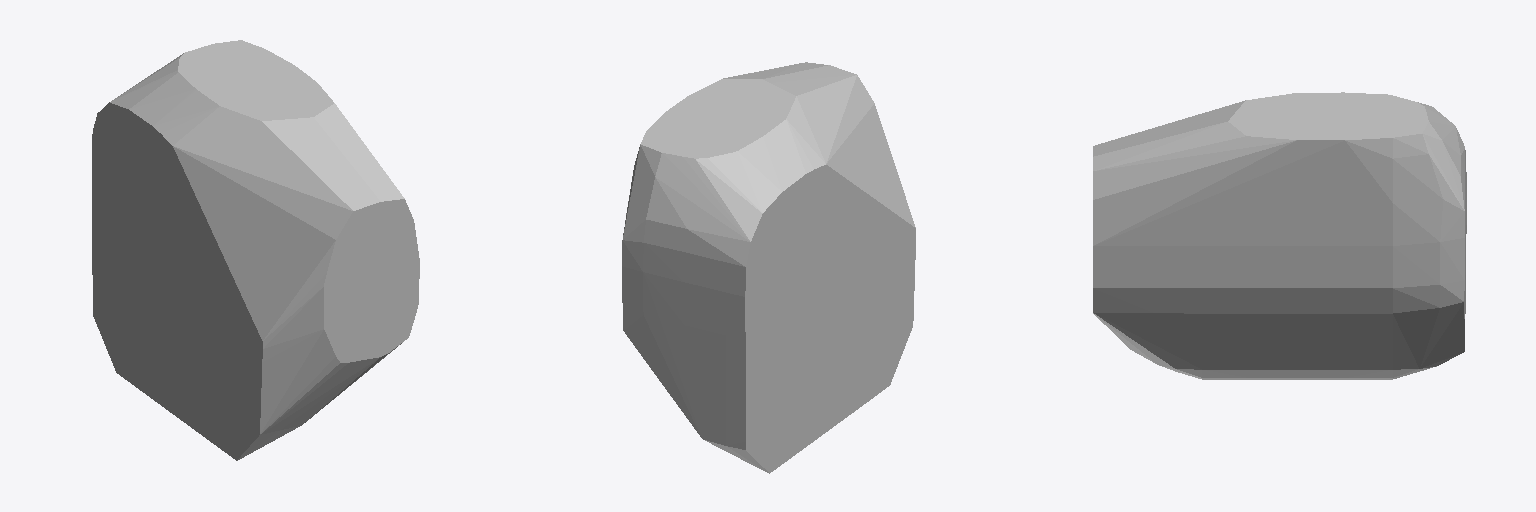
File: Cart_outer_skeleton_collision_10.obj
3 views of the same model, side by side, from view 1: azimuth 30°, elevation 25°; view 2: azimuth 150°, elevation 25°; view 3: azimuth 270°, elevation 25° (orthographic).
Bounding box in the file's own units: 0.0287 × 0.0582 × 0.0656.